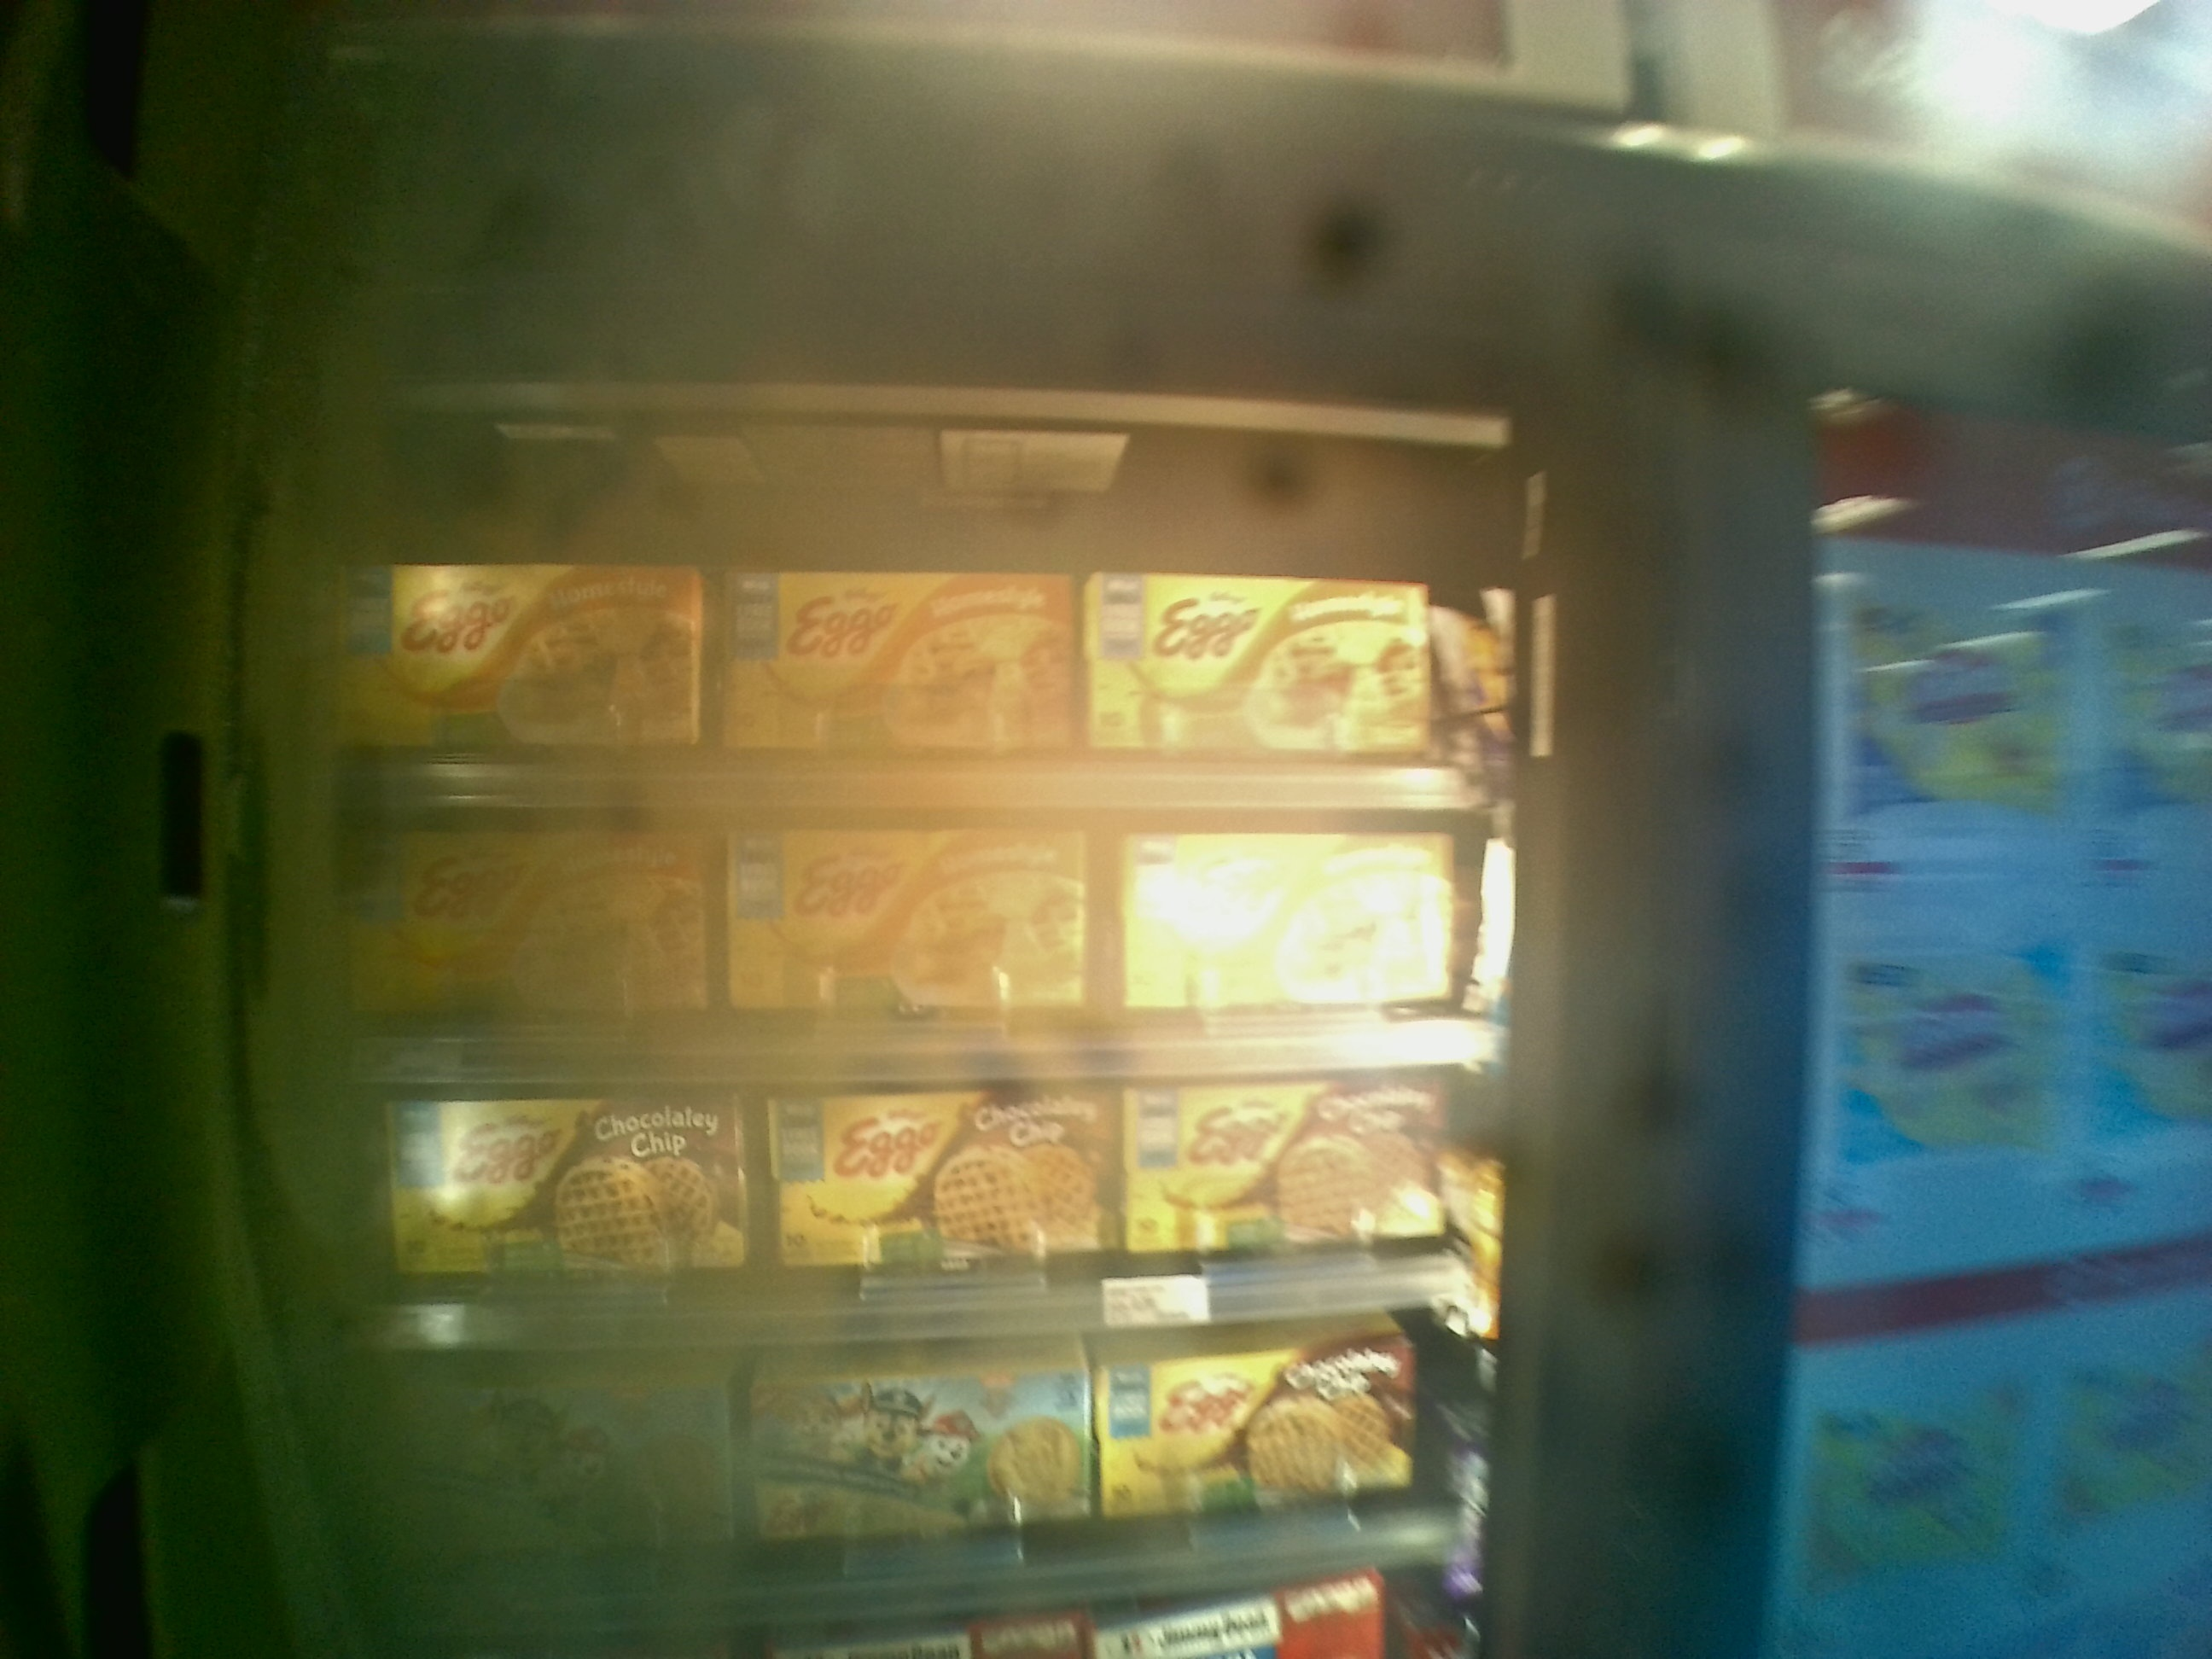frozen-food-shelf: (343, 385, 1524, 812), (359, 1063, 1491, 1345)
